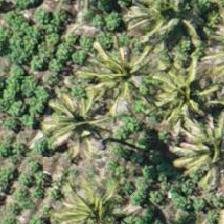coconut_tree: (67, 26, 157, 116), (36, 77, 126, 167), (140, 50, 223, 140), (167, 106, 223, 196), (51, 170, 141, 223), (117, 0, 207, 48)
